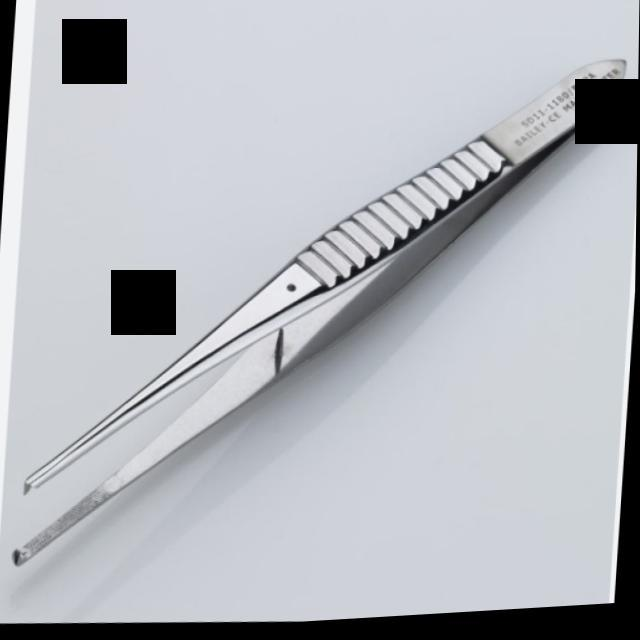Disscting Forceps -tooth-: (9, 21, 630, 602)
